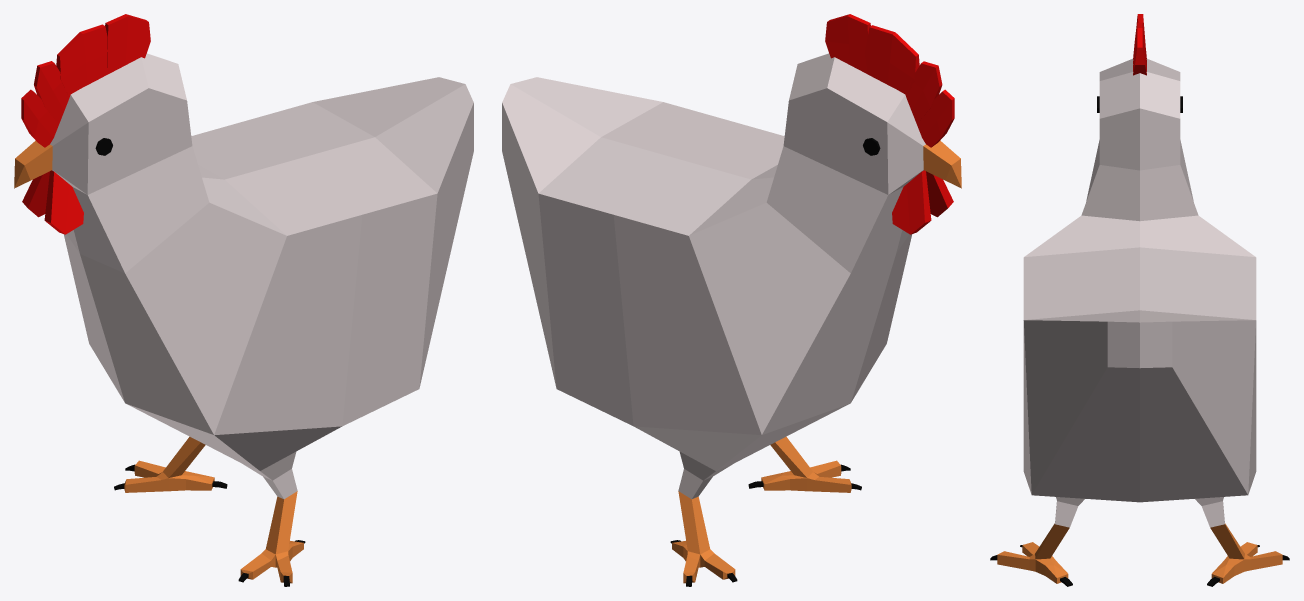
File: chicken.fbx
3 renders of one model, left to right at view 1: azimuth 30°, elevation 25°; view 2: azimuth 150°, elevation 25°; view 3: azimuth 270°, elevation 25°, orthographic. The views are drawn at different scales.
Visible parts, largest first — view 1: Cube.035_Cube.034; view 2: Cube.035_Cube.034; view 3: Cube.035_Cube.034.
Boxes of the visible parts, x1=… form: Cube.035_Cube.034: x1=14, y1=14, x2=473, y2=586; Cube.035_Cube.034: x1=502, y1=14, x2=961, y2=586; Cube.035_Cube.034: x1=990, y1=14, x2=1289, y2=586.
Size of the model in its own units: 16732 by 18902 by 10344.
